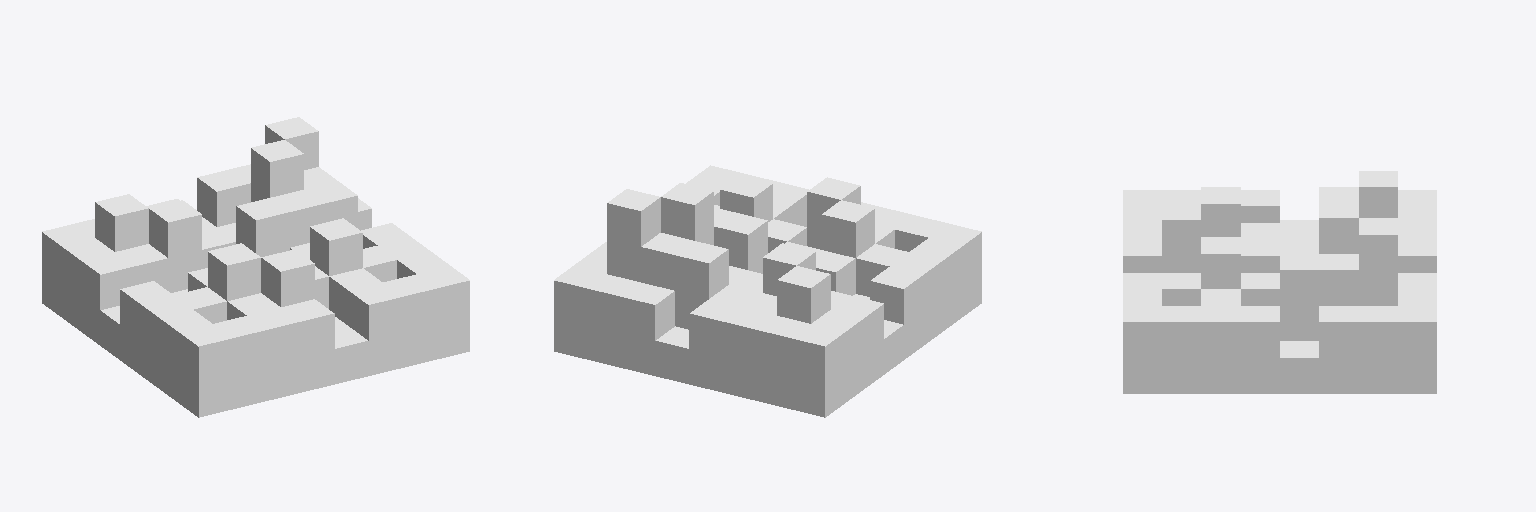
The model's file is GreenCorall1.obj.
3 views of the same model, side by side, from view 1: azimuth 30°, elevation 25°; view 2: azimuth 150°, elevation 25°; view 3: azimuth 270°, elevation 25° (orthographic).
Parts seen in each view (by area): view 1: object 1; view 2: object 1; view 3: object 1.
Part boxes in pixels (left/top/right/bottom): object 1: left=42, top=117, right=469, bottom=417; object 1: left=554, top=165, right=981, bottom=417; object 1: left=1123, top=171, right=1436, bottom=393.
Bounding box in the file's own units: 0.8 × 0.4 × 0.8.